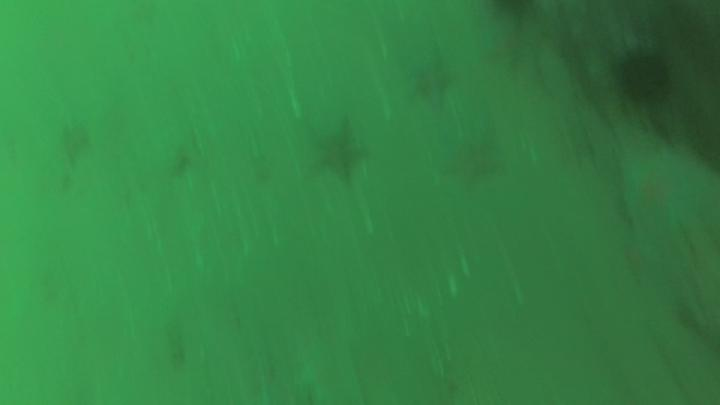echinus: (607, 38, 678, 115)
starfish: (616, 135, 719, 242), (310, 119, 369, 186), (408, 52, 456, 113)
